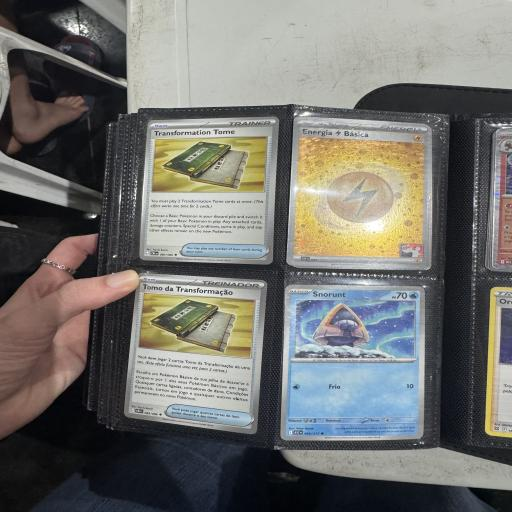card: (122, 268, 271, 435), (285, 116, 436, 270), (281, 284, 425, 442), (139, 111, 280, 265)
